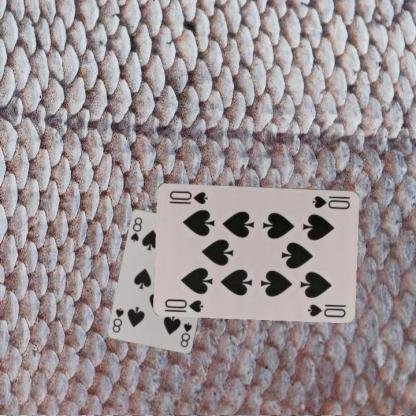10s: (162, 296, 205, 314), (310, 193, 352, 210)
8s: (178, 320, 194, 349), (128, 215, 144, 243)
